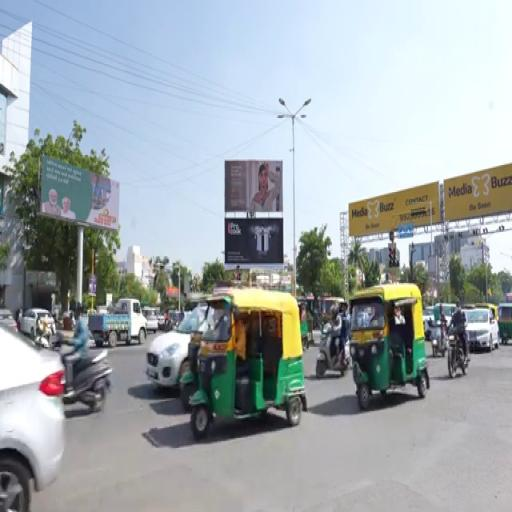Car: (0, 326, 64, 510), (146, 305, 207, 388), (464, 308, 499, 351), (20, 309, 55, 339), (0, 309, 17, 331), (144, 310, 158, 333), (423, 306, 434, 331), (157, 312, 165, 329)
